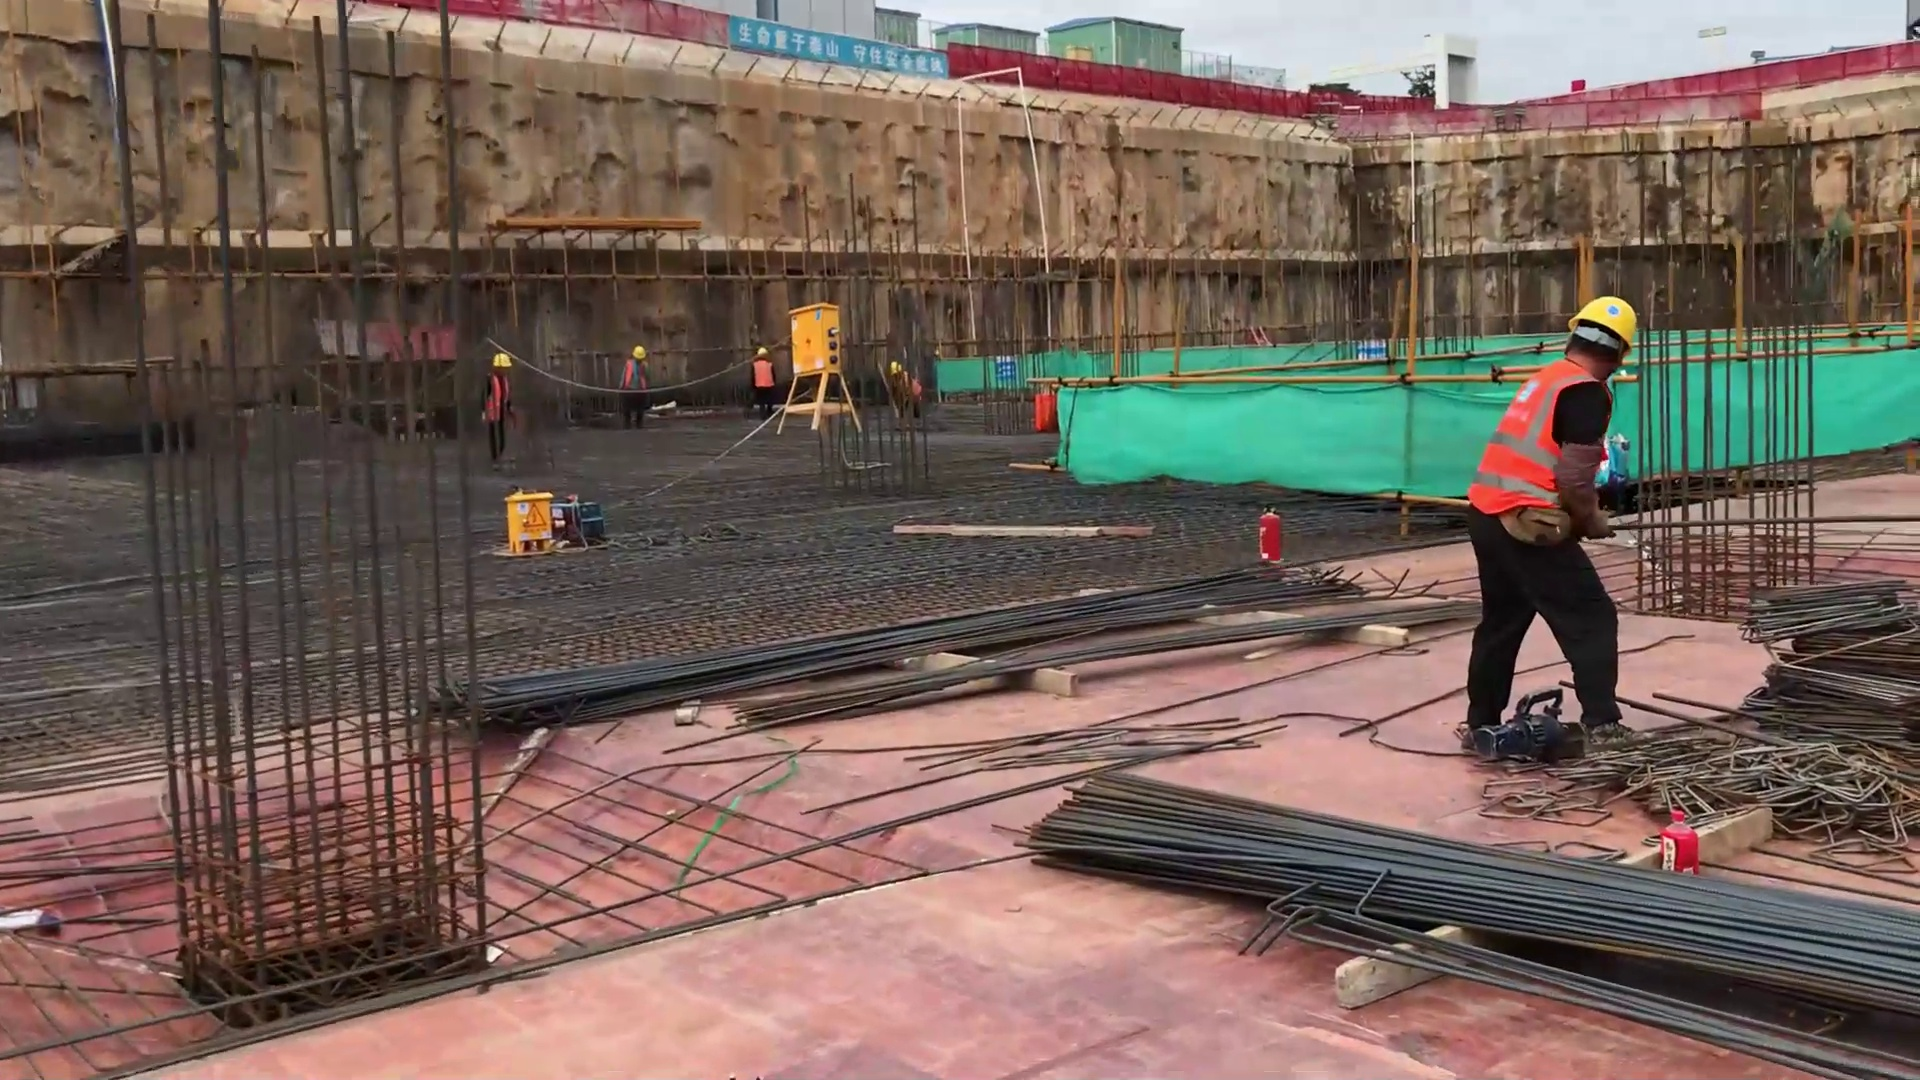ebox: (786, 302, 858, 384), (488, 494, 553, 531)
fence: (983, 39, 1920, 103)
helmet: (1559, 300, 1639, 351), (494, 352, 514, 368), (631, 344, 647, 358), (891, 362, 904, 371), (753, 347, 766, 353)
person: (1436, 288, 1643, 758), (481, 341, 519, 456), (883, 351, 936, 426), (619, 338, 653, 431), (743, 346, 778, 428)
rebar: (443, 536, 1335, 753), (1373, 827, 1915, 1021)
slogan: (729, 24, 978, 74)
vest: (1468, 371, 1619, 511), (485, 372, 509, 421), (623, 359, 650, 391), (752, 359, 773, 387), (890, 380, 923, 397)
